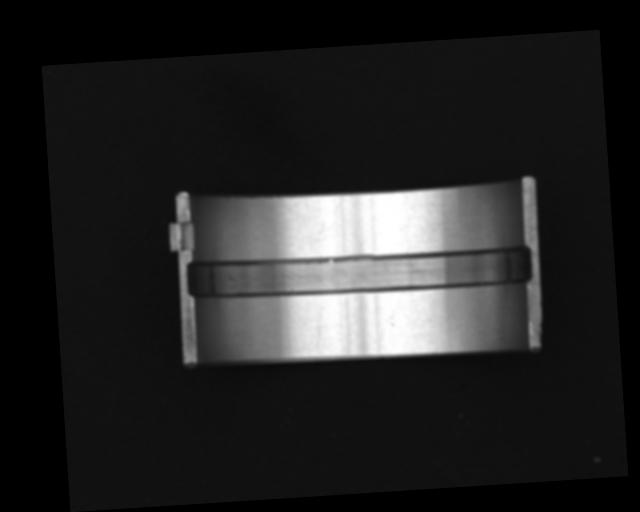gap: (187, 239, 535, 306)
nick: (314, 313, 325, 347)
